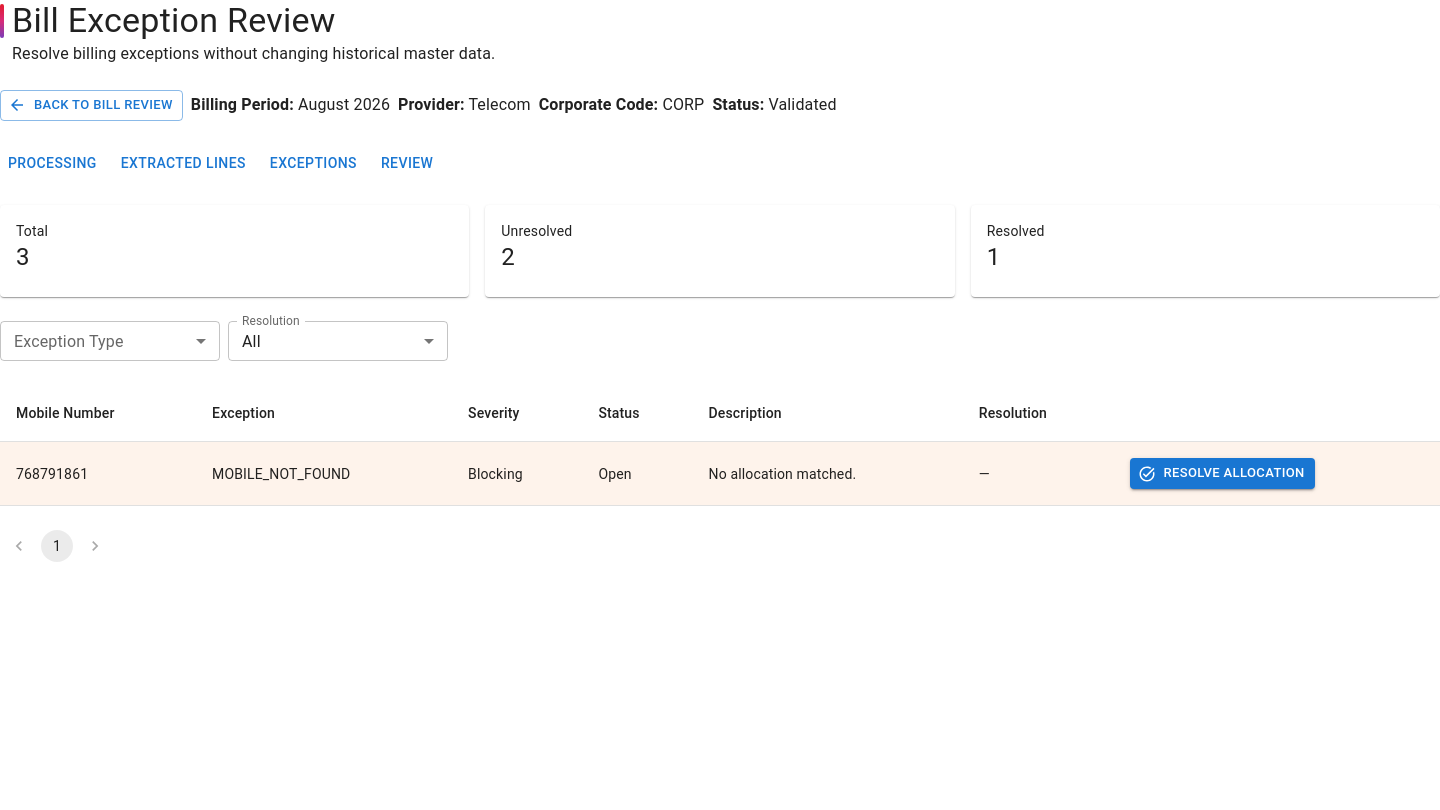
ExceptionReviewPage › shows the historical allocation dropdown when a candidate exists
Expected: the text "768791861" is shown, top-left (0, 442), bottom-right (196, 506)
Click the button "Resolve allocation": (1222, 474) top-left (1130, 458), bottom-right (1315, 489)
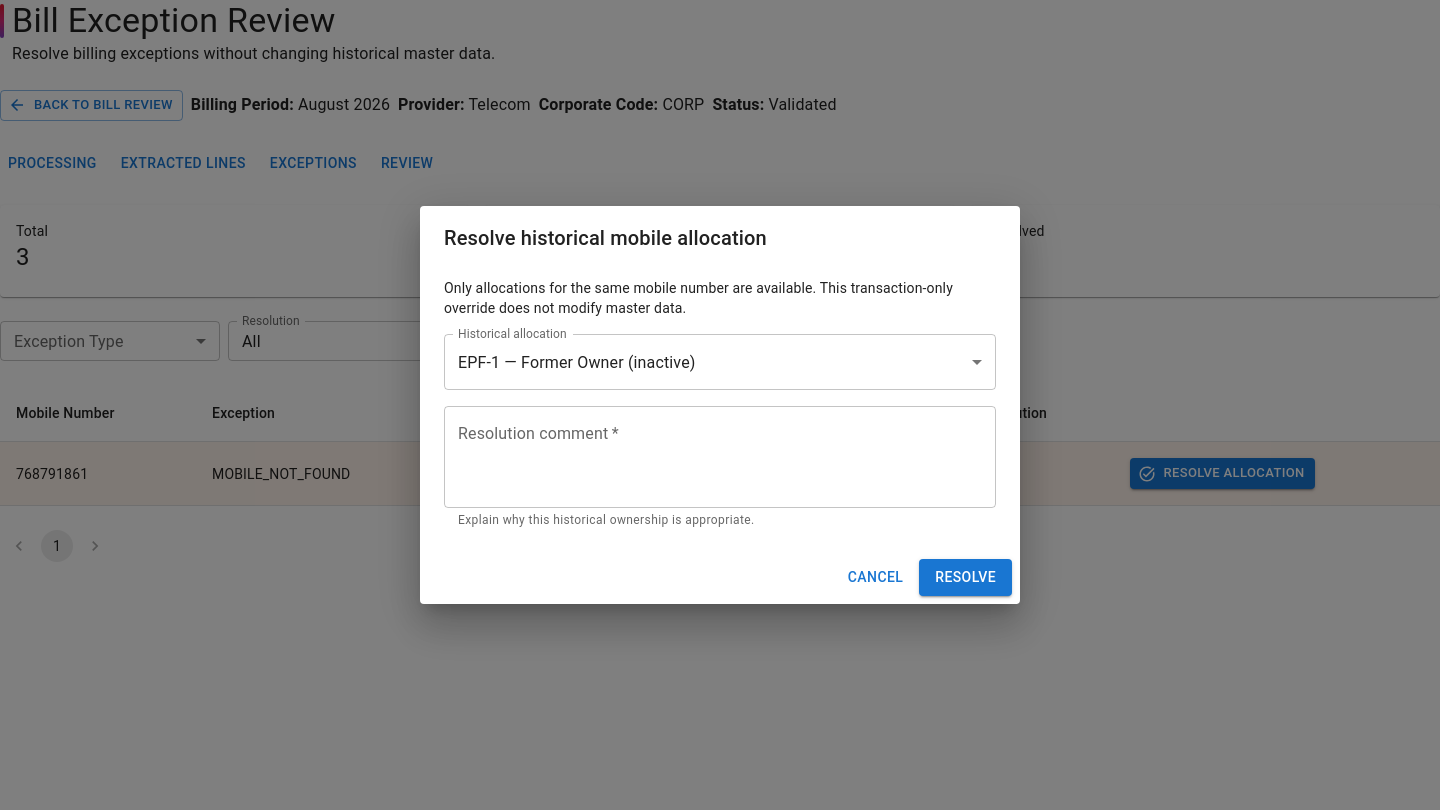
Now the dropdown named "Historical allocation" is shown, box top-left (458, 353), bottom-right (696, 372)
Now the button "Resolve" is shown, box top-left (919, 559), bottom-right (1012, 596)
